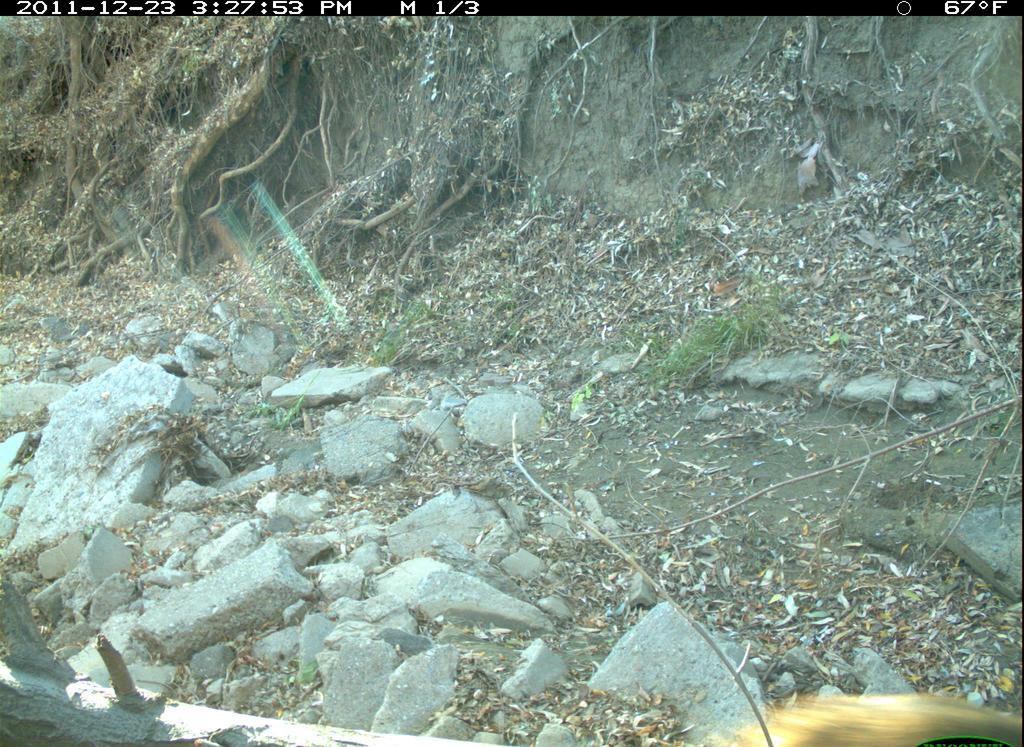squirrel: (701, 671, 1023, 747)
